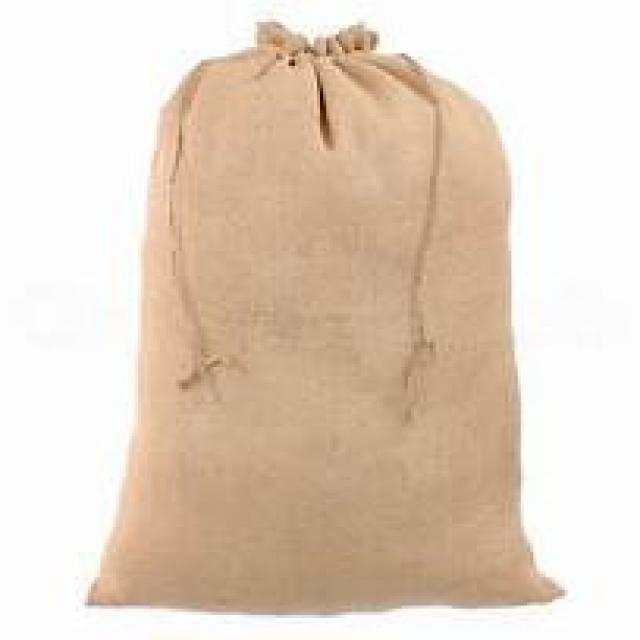gunny_bag: (86, 19, 574, 615)
